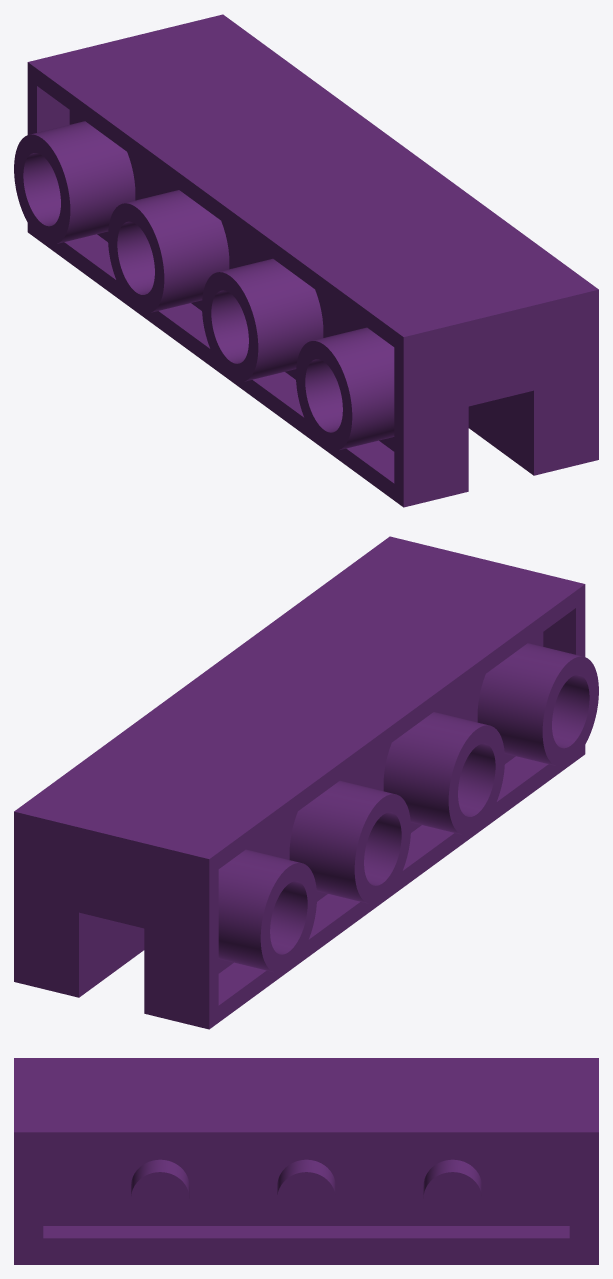
File: brick_modified1*4_with_channel_medium_lavender.obj
3 renders of one model, top to bottom at view 1: azimuth 30°, elevation 25°; view 2: azimuth 150°, elevation 25°; view 3: azimuth 270°, elevation 25°, orthographic. The views are drawn at different scales.
Visible parts, largest first — view 1: brick_modified1*4_with_channel_medium_lavender; view 2: brick_modified1*4_with_channel_medium_lavender; view 3: brick_modified1*4_with_channel_medium_lavender.
Part boxes in pixels (x1,y1,x2,y2): brick_modified1*4_with_channel_medium_lavender: (14,14,598,507); brick_modified1*4_with_channel_medium_lavender: (14,536,598,1029); brick_modified1*4_with_channel_medium_lavender: (14,1058,598,1264).
Bounding box in the file's own units: 28 × 20 × 80.
